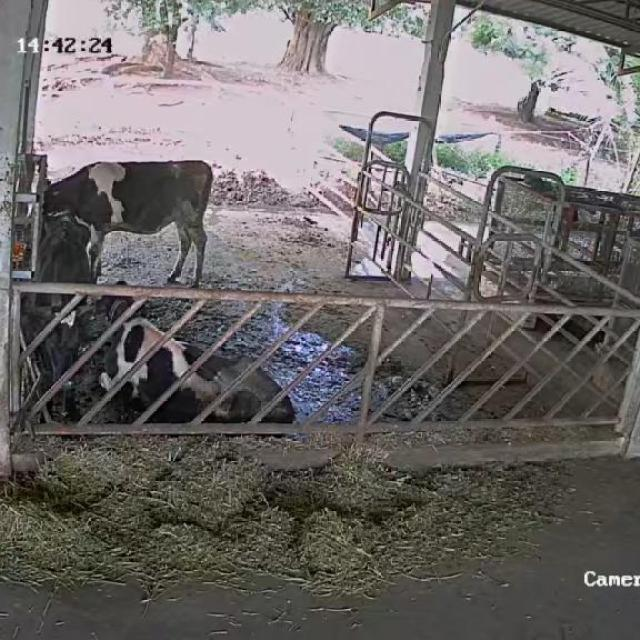lying down: (92, 280, 300, 436)
standing: (18, 154, 219, 298), (21, 217, 111, 417)
